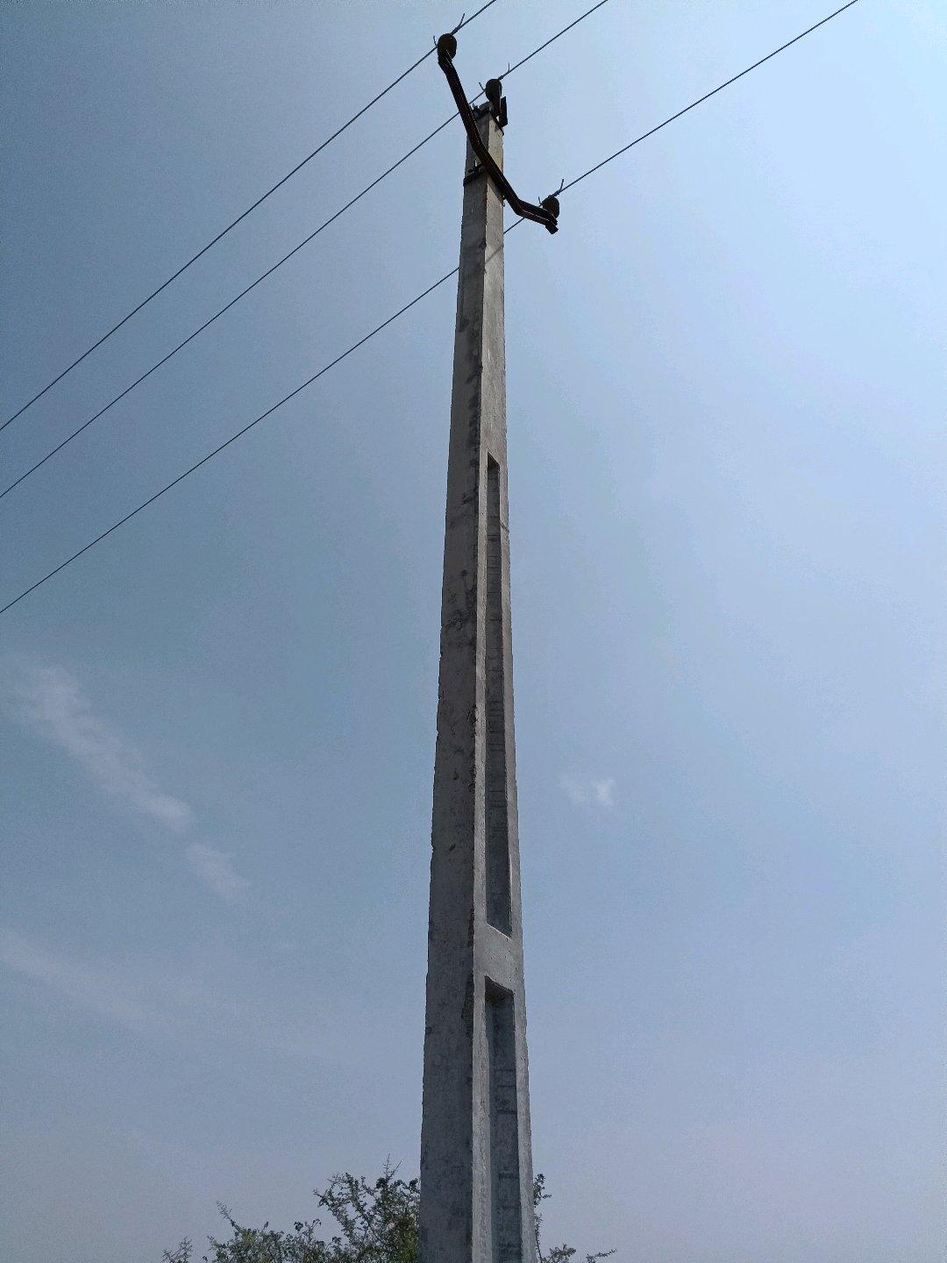{"0" "insulator", "1" "pole", "2" "crossarm", "3" "conductor", "4" "street_: (420, 35, 559, 1262), (352, 317, 398, 349), (409, 303, 413, 306)
